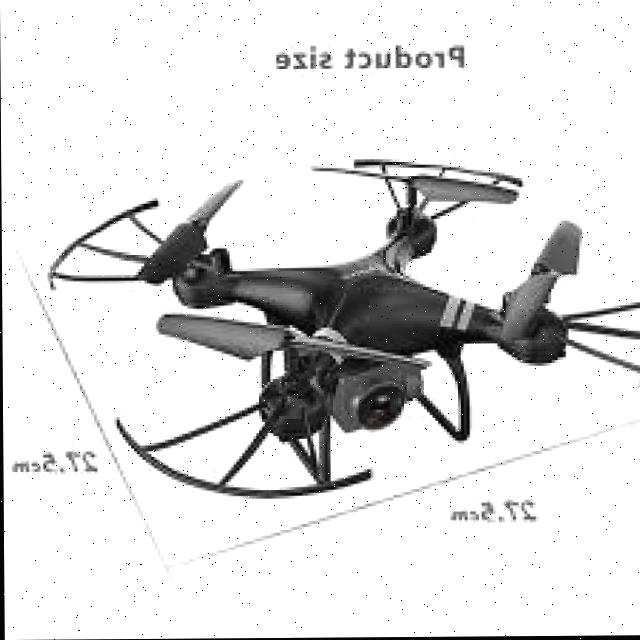drone: (33, 143, 640, 511)
